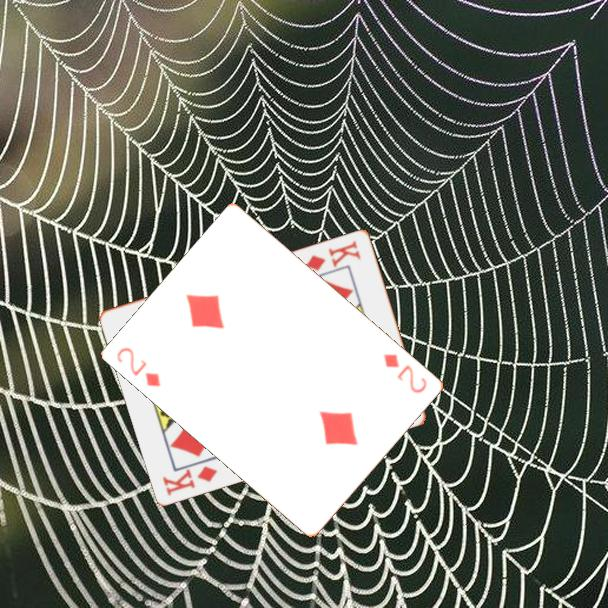d02: (113, 343, 164, 390), (380, 350, 430, 396)
d13: (159, 462, 221, 499), (302, 237, 364, 273)
